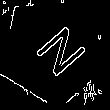N_SW: (22, 19, 85, 82)
